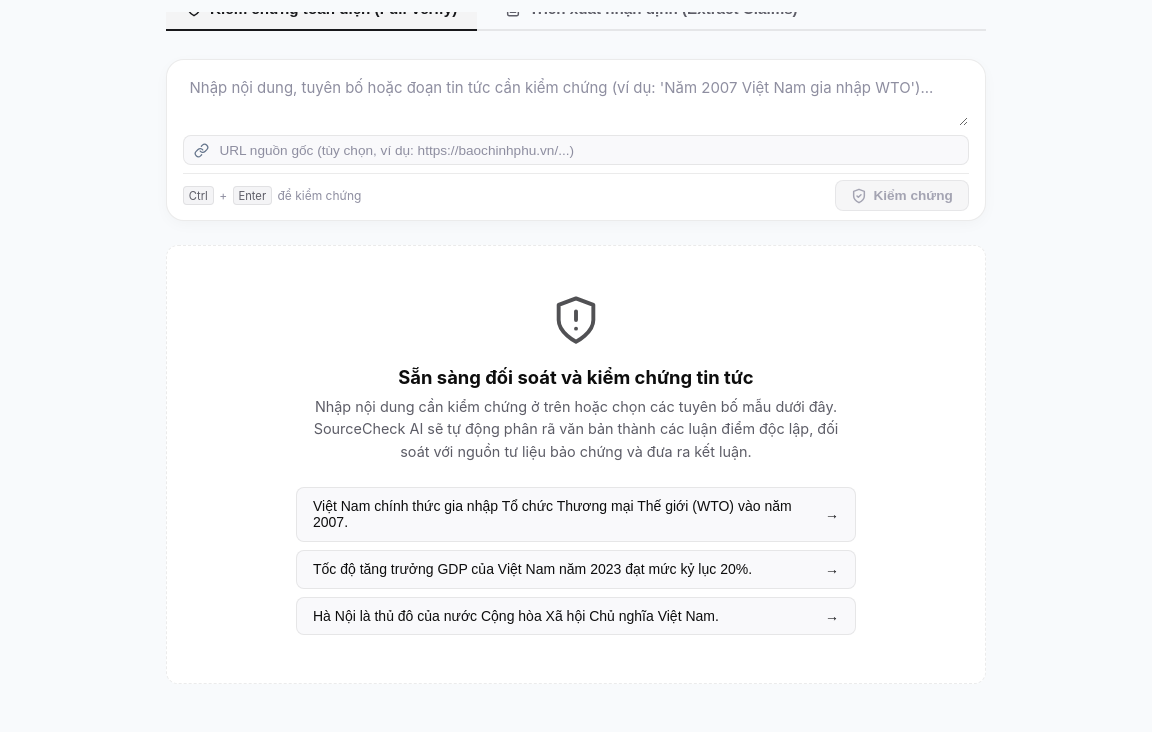
Fact-Checking Feature (FE-04.1) › 3. Successful Verification Result Rendering › renders FALSE and MIXED verdicts correctly from backend
(page scrolled)
Replace the text in the text box with test id "factcheck-textarea" with "GDP 2023 đạt 20%". click: (576,100)
box: [183, 72, 969, 127]
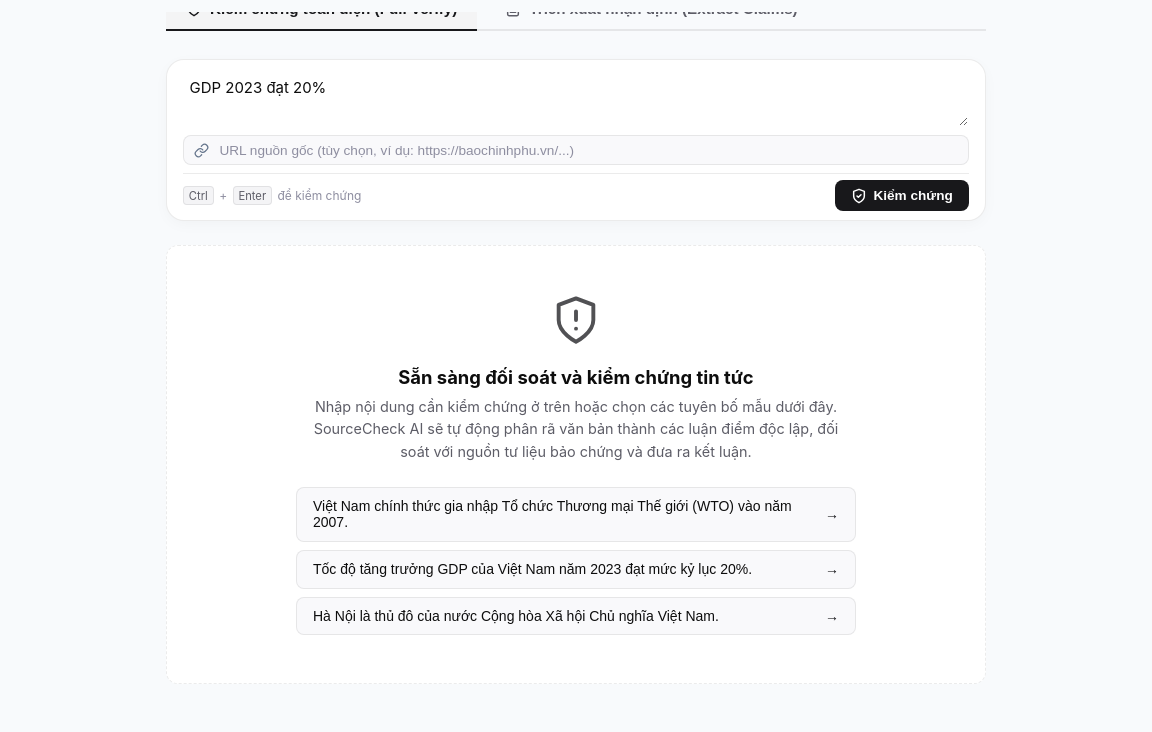
Click the button with test id "btn-verify". click: (902,196)
box: [835, 180, 969, 211]
(page scrolled)
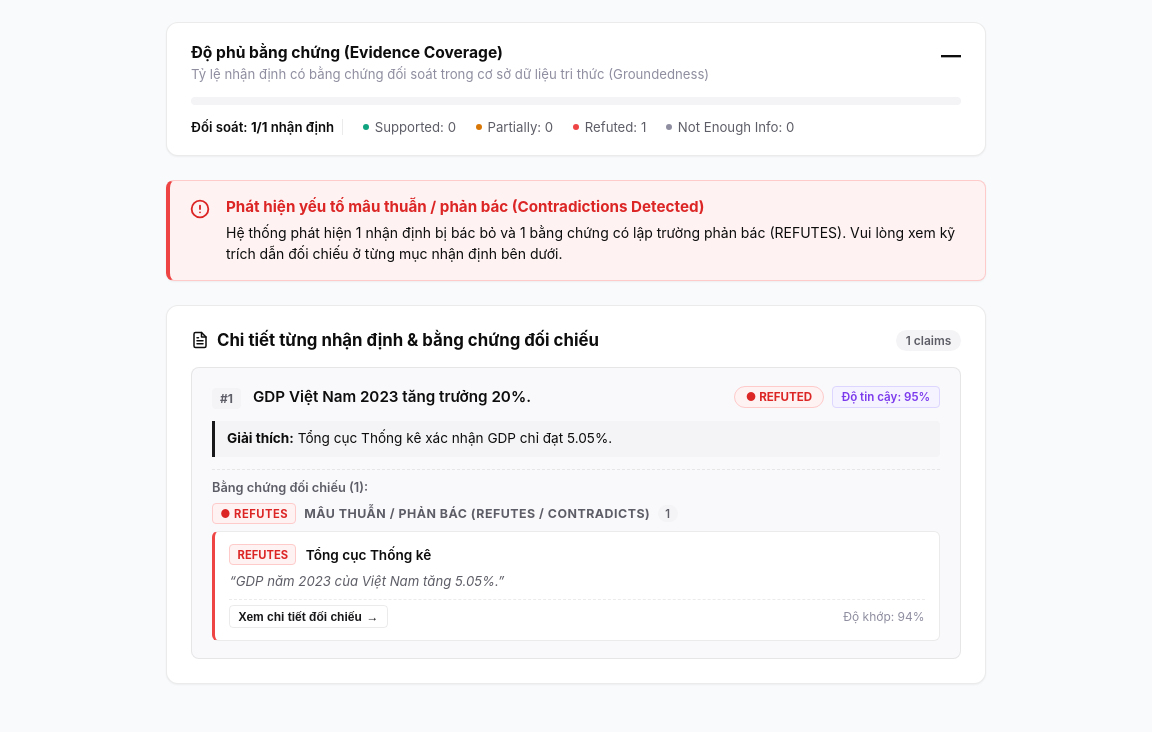
Expected: the text with test id "claim-verdict-claim-false" shows "REFUTED", [759, 390, 812, 404]
Expected: the text with test id "evidence-stance-claim-false-0" reads "REFUTES", [238, 548, 288, 562]
